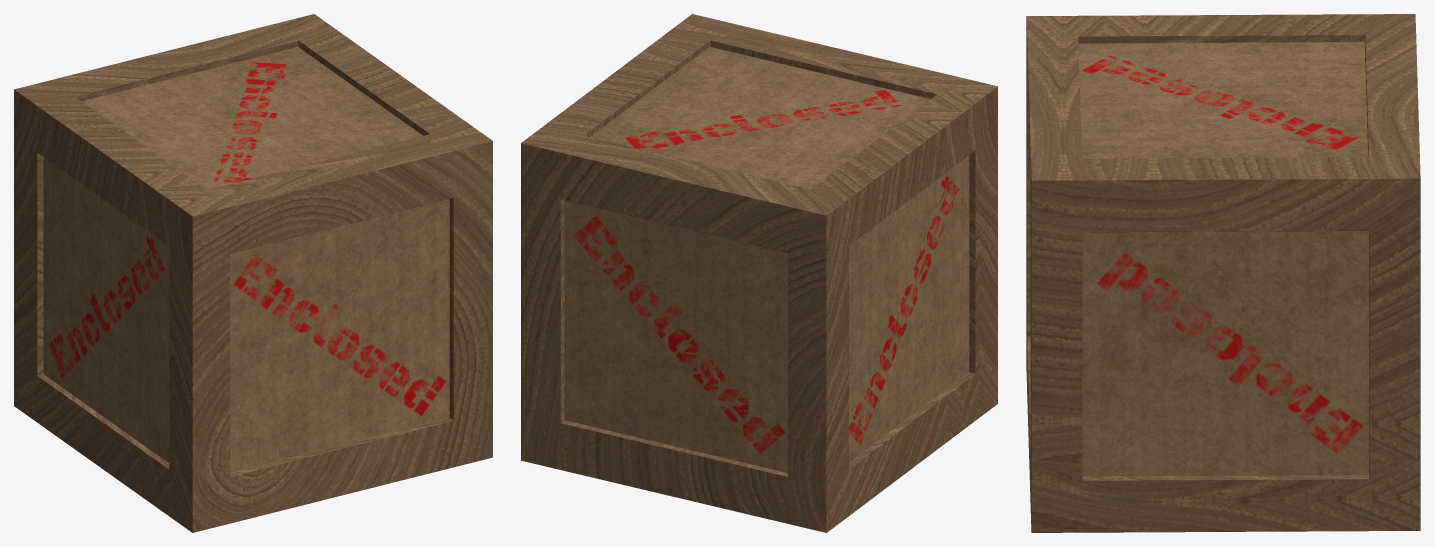
Rendered from crate.fbx.
3 views of the same model, side by side, from view 1: azimuth 30°, elevation 25°; view 2: azimuth 150°, elevation 25°; view 3: azimuth 270°, elevation 25° (orthographic). The views are drawn at different scales.
Parts seen in each view (by area): view 1: Cube.065; view 2: Cube.065; view 3: Cube.065.
Boxes of the visible parts, bbox=[...] form: Cube.065: bbox=[14, 14, 492, 532]; Cube.065: bbox=[521, 14, 997, 532]; Cube.065: bbox=[1026, 14, 1420, 532].
Size of the model in its own units: 269 by 266 by 269.
